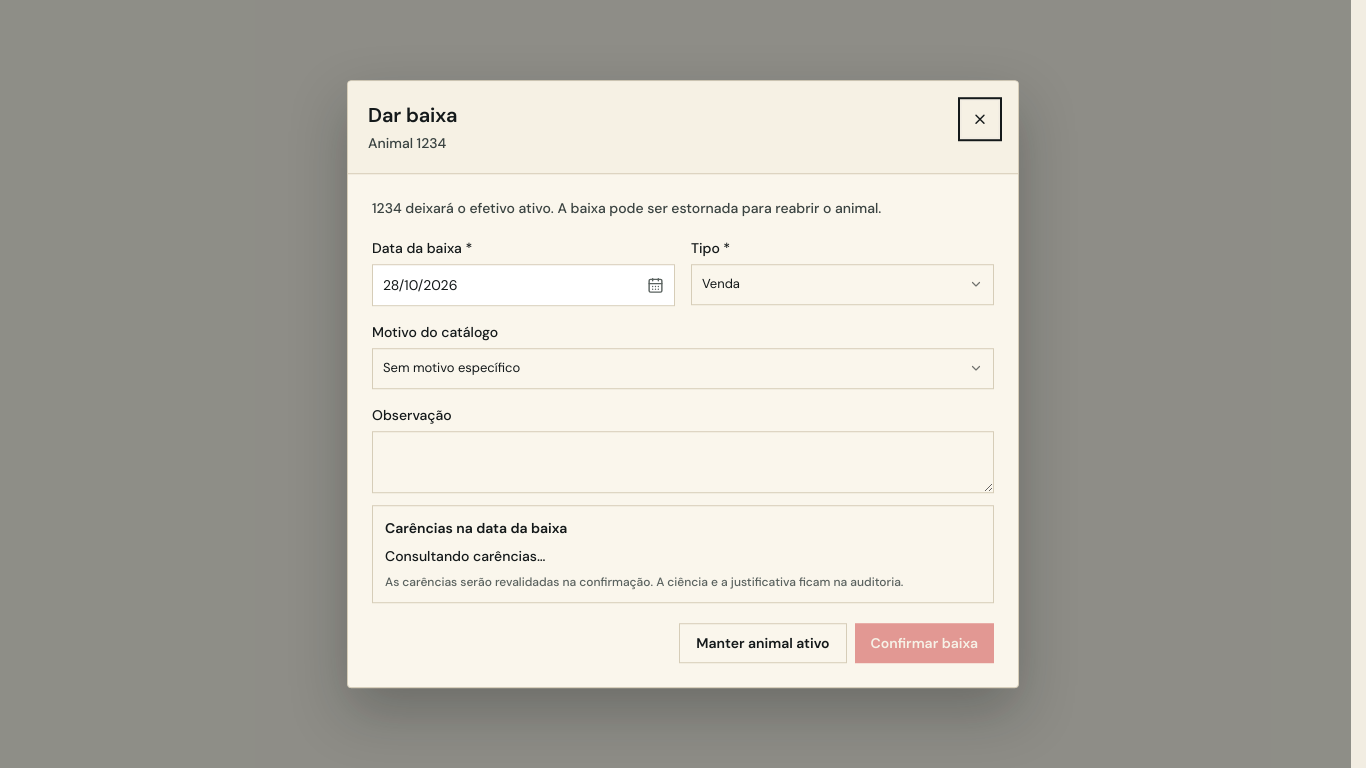
Scenario: FormBaixa › Extravio esconde o campo de motivo
Click the dropdown named "Tipo".
click(721, 284)  # box [691,264,994,305]
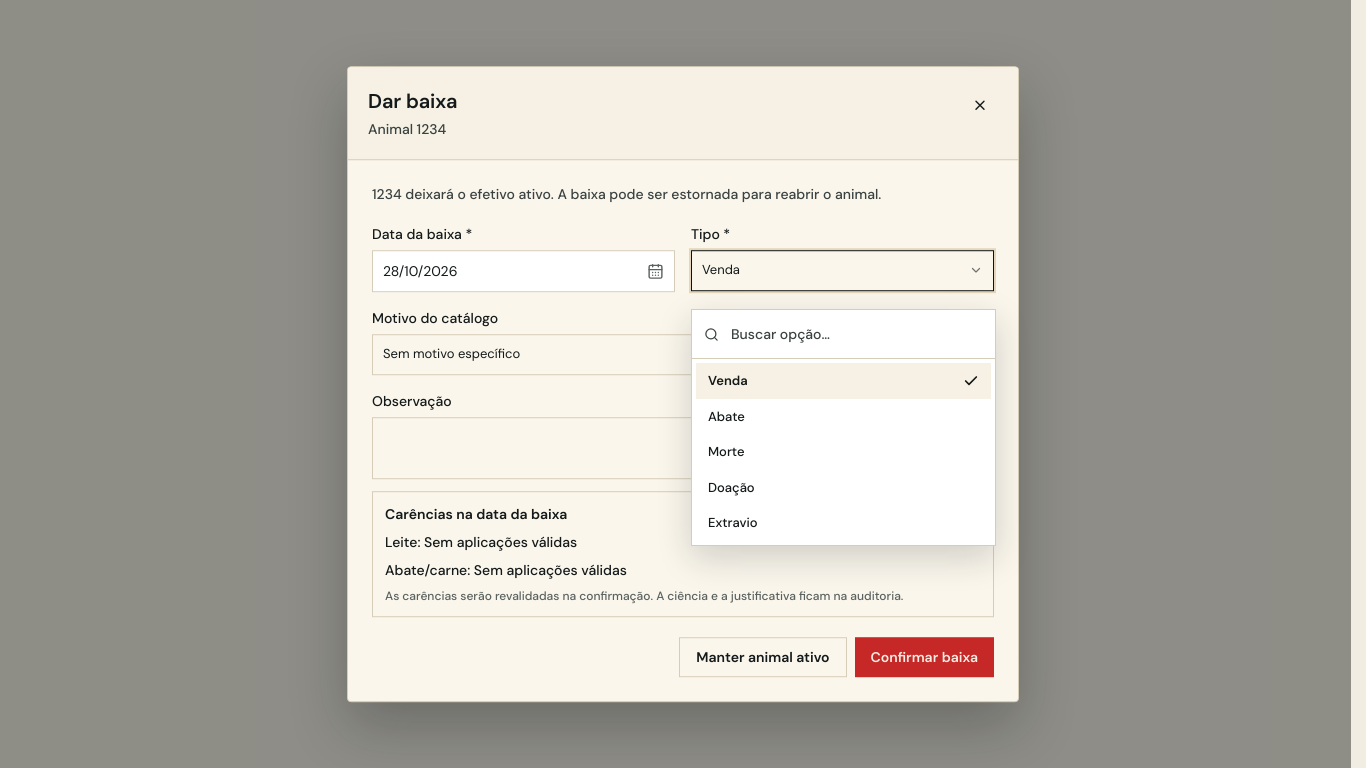
Click the option "Extravio".
click(733, 522)  # box [708,514,758,531]
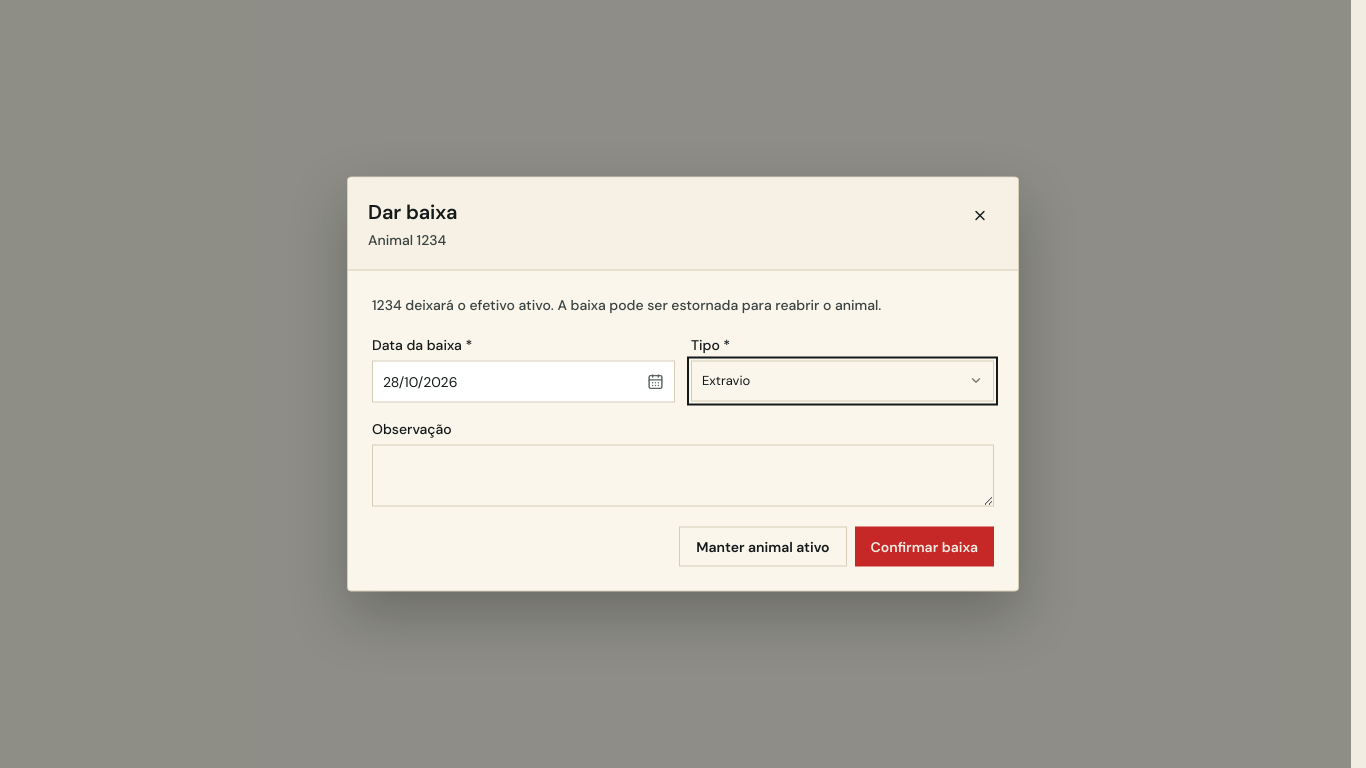
Expected: the label labelled "Motivo do catálogo" is gone
